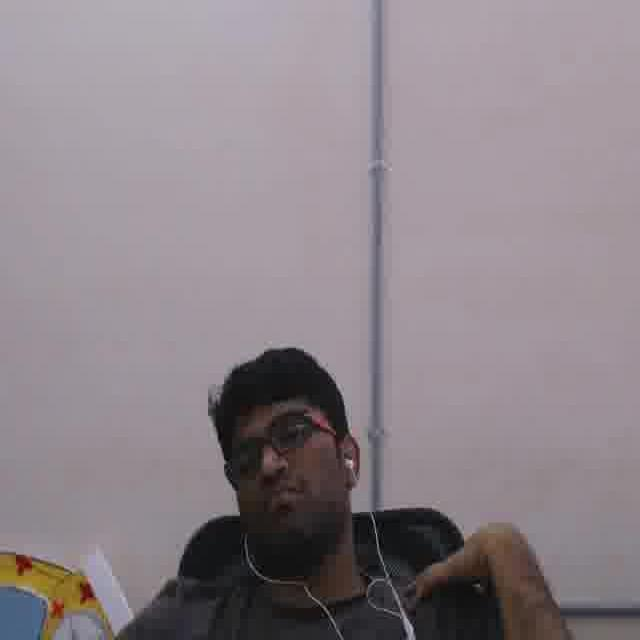Boredom: (238, 393, 335, 540)
